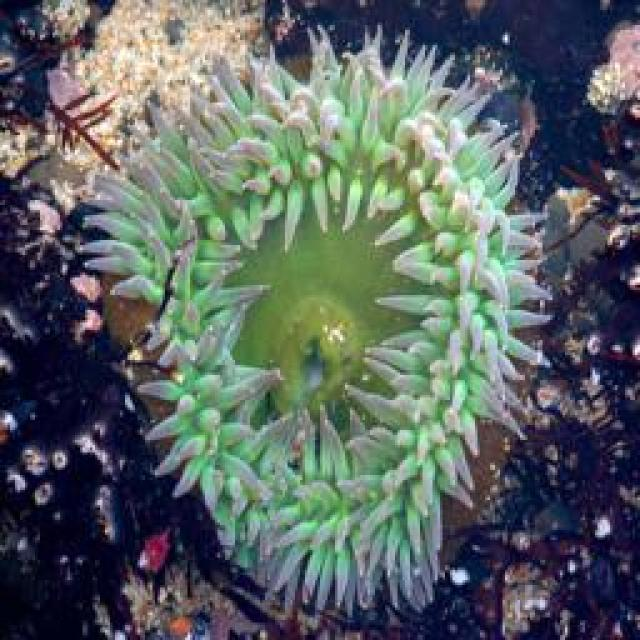reefs: (75, 25, 555, 616)
